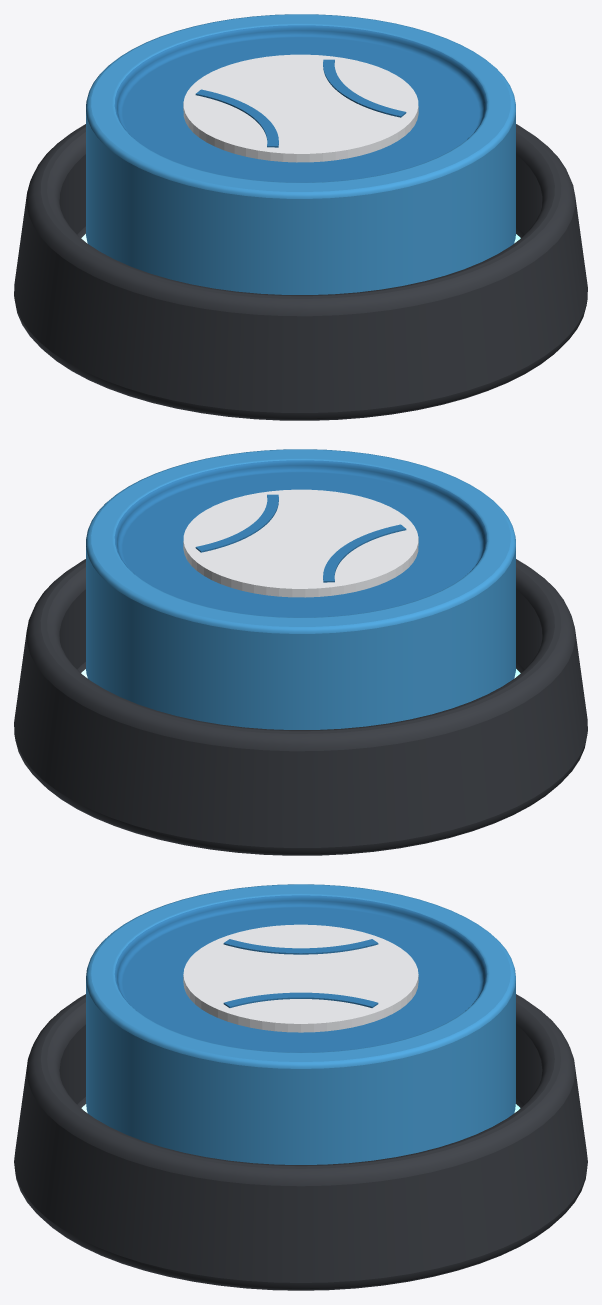
File: BallButton.fbx
3 renders of one model, top to bottom at view 1: azimuth 30°, elevation 25°; view 2: azimuth 150°, elevation 25°; view 3: azimuth 270°, elevation 25°, orthographic.
Parts seen in each view (by area): view 1: BallButton_Cap, BallButton_Base; view 2: BallButton_Cap, BallButton_Base; view 3: BallButton_Cap, BallButton_Base.
Part boxes in pixels (x1,y1,x2,y2): BallButton_Cap: [86, 14, 515, 294]; BallButton_Base: [14, 124, 587, 420]; BallButton_Cap: [86, 449, 515, 729]; BallButton_Base: [14, 559, 587, 855]; BallButton_Cap: [86, 884, 515, 1164]; BallButton_Base: [14, 994, 587, 1290].
Bounding box in the file's own units: 0.0547 × 0.0211 × 0.0547.
